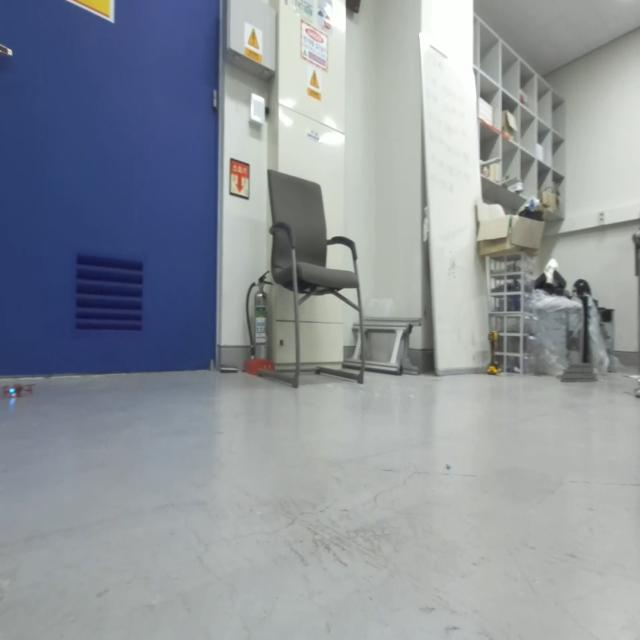crazyflie: (0, 378, 39, 407)
